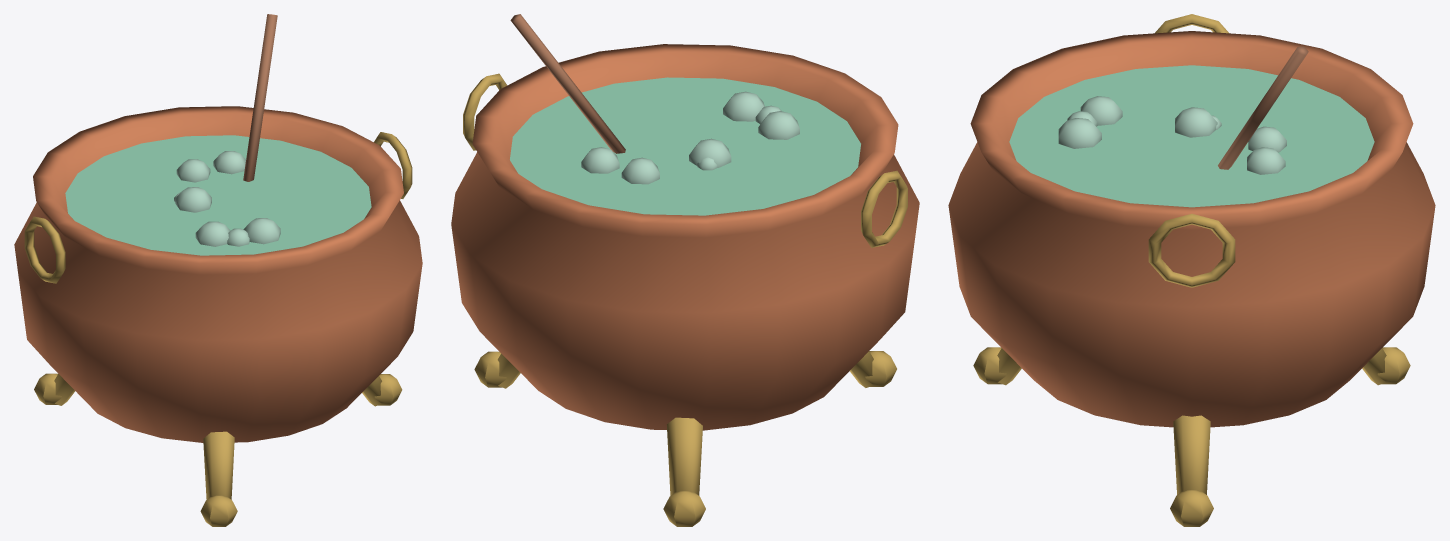
File: fae_cauldron.glb
3 views of the same model, side by side, from view 1: azimuth 30°, elevation 25°; view 2: azimuth 150°, elevation 25°; view 3: azimuth 270°, elevation 25° (orthographic). The views are drawn at different scales.
Parts seen in each view (by area): view 1: fae_cauldron; view 2: fae_cauldron; view 3: fae_cauldron.
Part boxes in pixels (left/top/right/bottom): fae_cauldron: left=14, top=14, right=422, bottom=526; fae_cauldron: left=451, top=14, right=919, bottom=526; fae_cauldron: left=948, top=14, right=1435, bottom=526.
Size of what is drawn, in the model's own units: 0.95 by 0.95 by 0.95.
